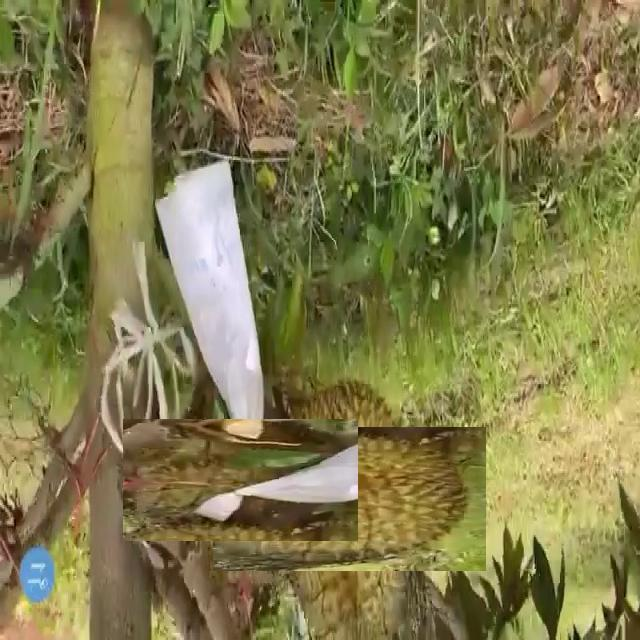durian: (246, 395, 454, 603), (151, 390, 331, 570)
